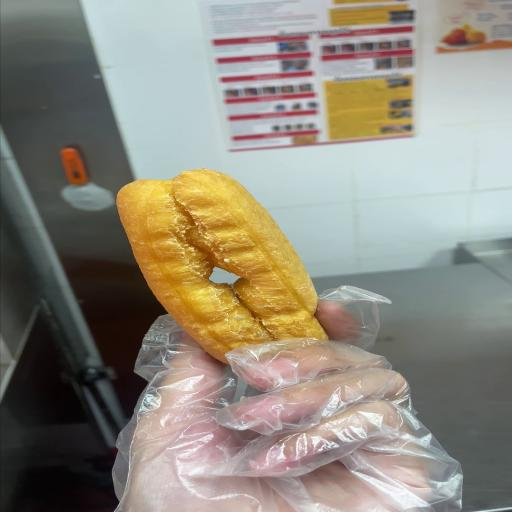brand_golden_defect: (117, 169, 328, 361)
